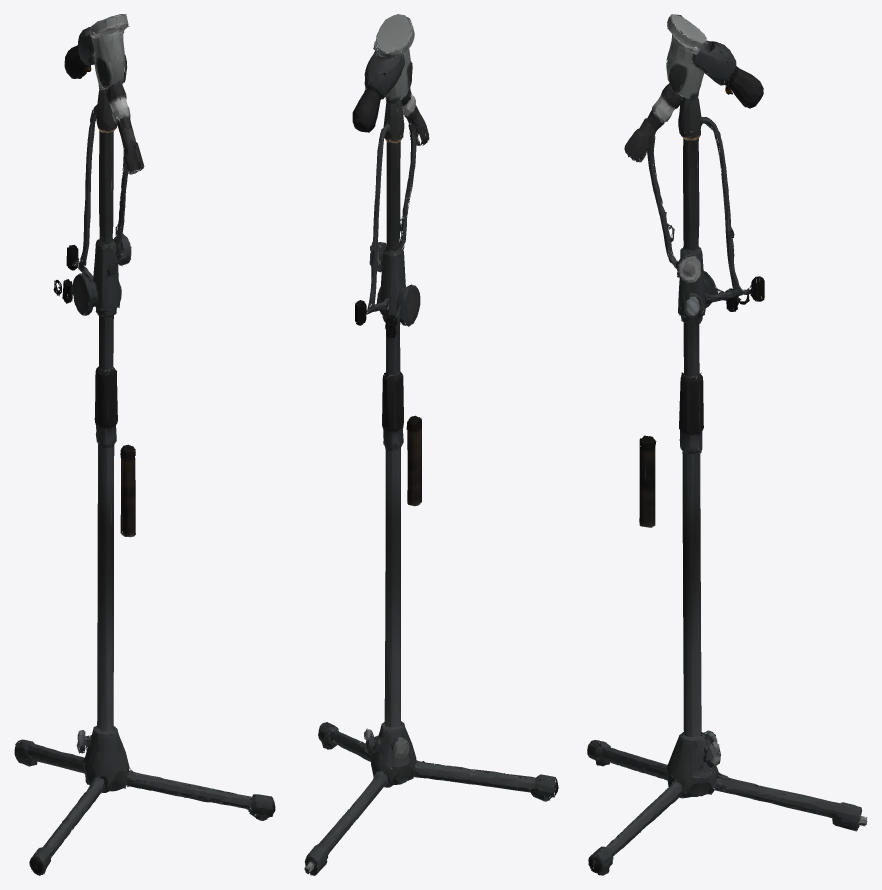
The model's file is mic-stand.glb.
3 views of the same model, side by side, from view 1: azimuth 30°, elevation 25°; view 2: azimuth 150°, elevation 25°; view 3: azimuth 270°, elevation 25° (orthographic). The views are drawn at different scales.
Parts seen in each view (by area): view 1: Mesh_0; view 2: Mesh_0; view 3: Mesh_0.
Part boxes in pixels (x1=…): Mesh_0: x1=14, y1=14, x2=275, y2=875; Mesh_0: x1=304, y1=14, x2=558, y2=875; Mesh_0: x1=587, y1=14, x2=867, y2=875.
Bounding box in the file's own units: 0.5 × 1.6 × 0.5.
Materials: 1 (1 with a texture image).
